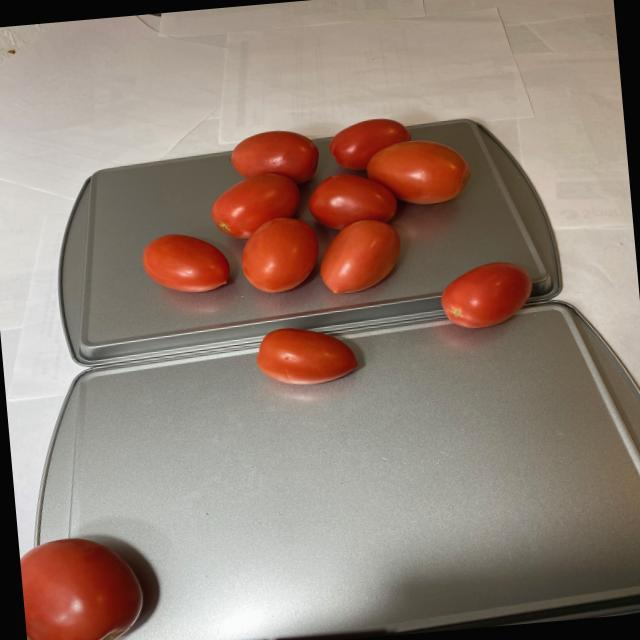tomato: (122, 106, 542, 398), (17, 524, 145, 640)
